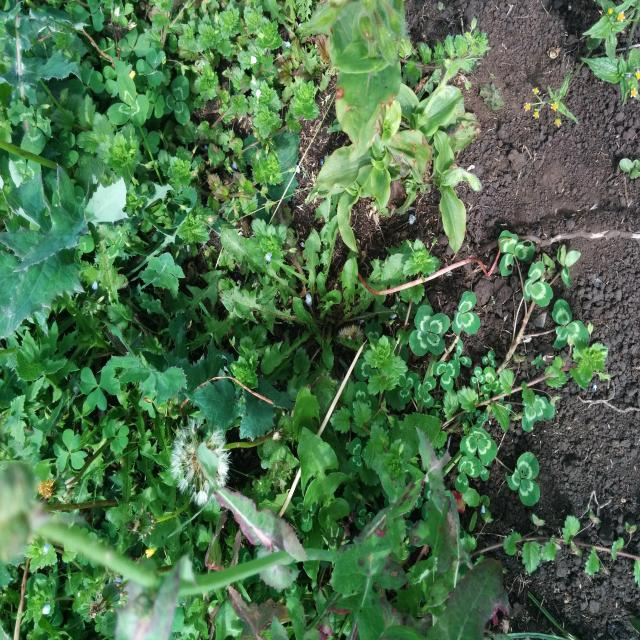Four Leaf Clover: (409, 305, 450, 356)
